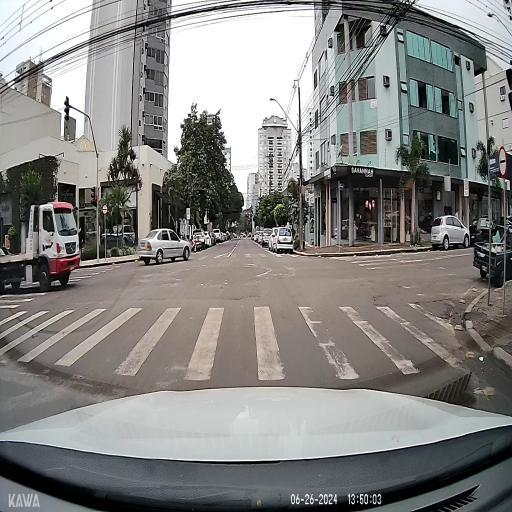R-24a: (102, 204, 107, 214)
